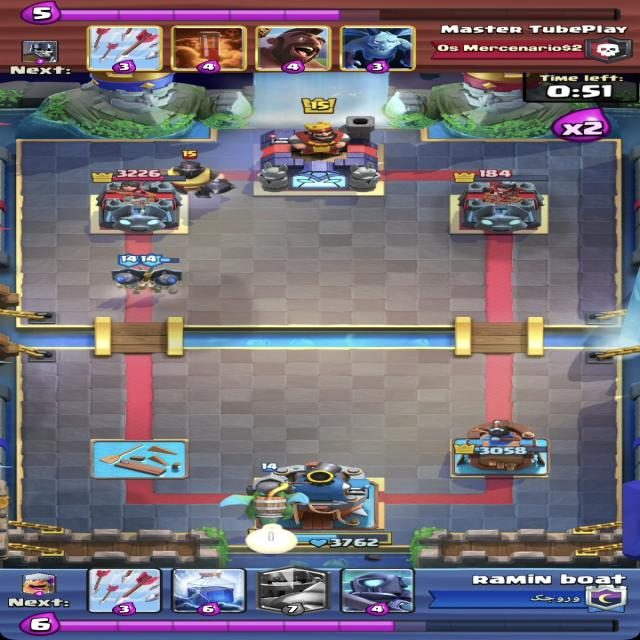Enemy-MegaKnight: (144, 149, 239, 199)
Player-Guard: (138, 253, 183, 296), (109, 253, 155, 294)
Player-InfernoDragon: (217, 462, 310, 528)
